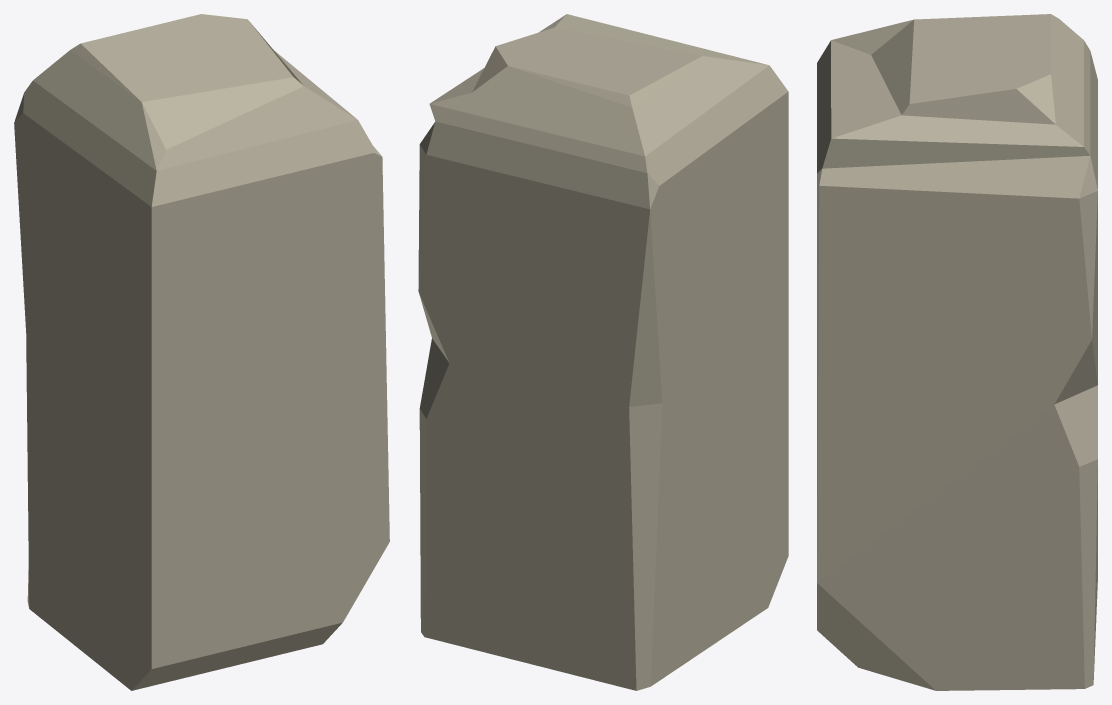
File: column_4_3.fbx
The picture shows the model from 3 angles, left to right: view 1: azimuth 30°, elevation 25°; view 2: azimuth 150°, elevation 25°; view 3: azimuth 270°, elevation 25°; orthographic projection. The views are drawn at different scales.
Visible parts, largest first — view 1: column_4_3; view 2: column_4_3; view 3: column_4_3.
Part boxes in pixels (left/top/right/bottom): column_4_3: left=14, top=14, right=389, bottom=690; column_4_3: left=418, top=14, right=788, bottom=690; column_4_3: left=817, top=14, right=1097, bottom=690.
Size of the model in its own units: 2 by 4.55 by 2.
